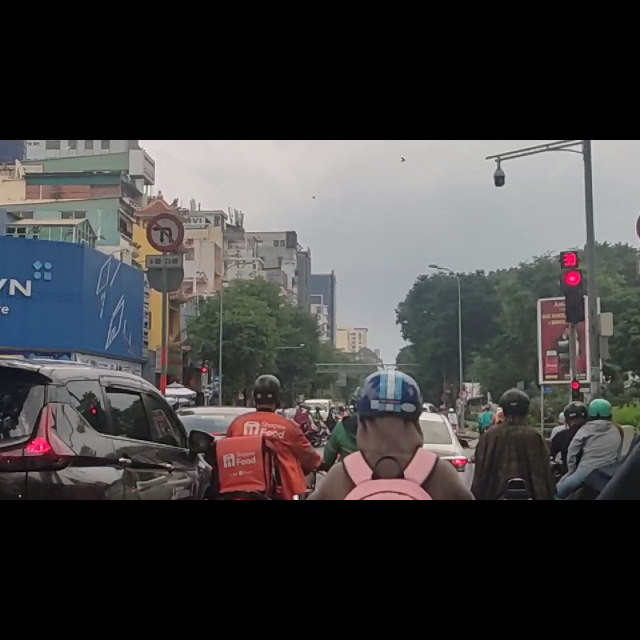bien_cam: (145, 128, 185, 199)
